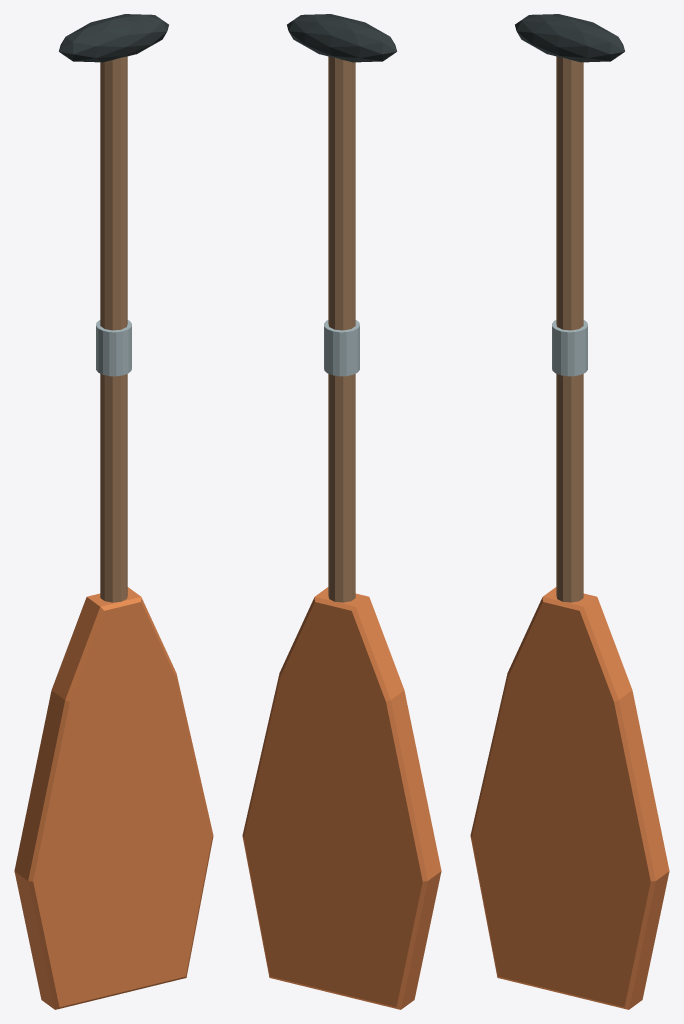
File: harbor-and-tackle-touring-paddle-8d760050__19547.glb
3 renders of one model, left to right at view 1: azimuth 30°, elevation 25°; view 2: azimuth 150°, elevation 25°; view 3: azimuth 330°, elevation 25°, orthographic.
Visible parts, largest first — view 1: orange, cedar, rubber, metal; view 2: orange, cedar, rubber, metal; view 3: orange, cedar, rubber, metal.
Boxes of the visible parts, x1,y1,x2,y2 form: orange: (14, 587, 213, 1009); cedar: (100, 56, 127, 602); rubber: (59, 14, 168, 62); metal: (96, 320, 131, 376); orange: (242, 587, 441, 1009); cedar: (328, 56, 355, 602); rubber: (287, 14, 396, 62); metal: (324, 320, 359, 376); orange: (470, 587, 669, 1009); cedar: (556, 56, 583, 602); rubber: (515, 14, 624, 62); metal: (552, 320, 587, 376).
Size of the model in its own units: 0.3523 by 1.76 by 0.08.
